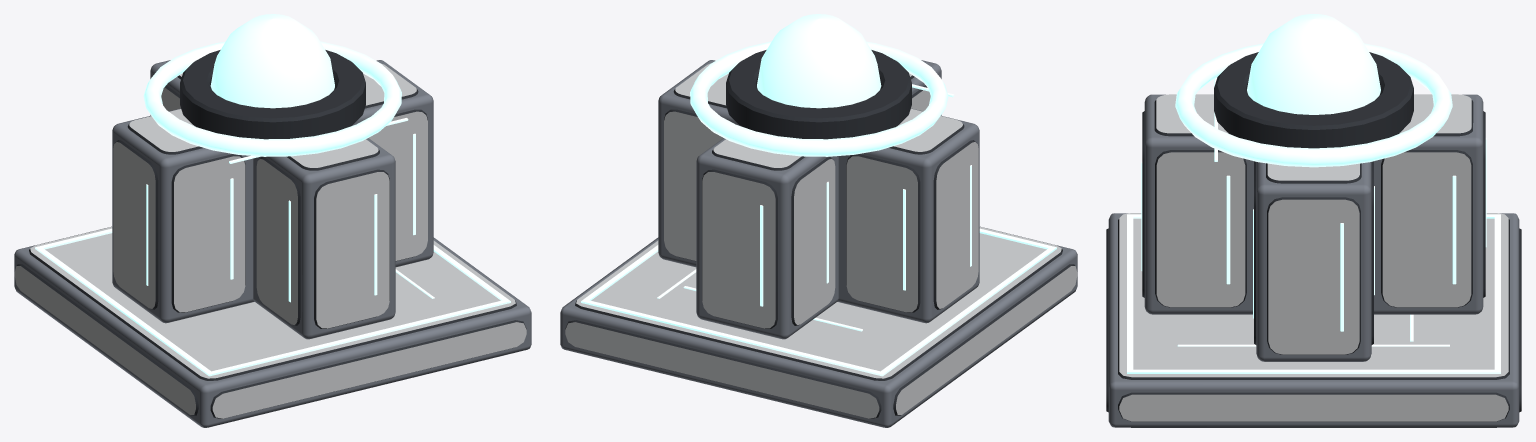
The model's file is R4X_RepairPulse.fbx.
3 views of the same model, side by side, from view 1: azimuth 30°, elevation 25°; view 2: azimuth 150°, elevation 25°; view 3: azimuth 270°, elevation 25° (orthographic). The views are drawn at different scales.
Parts seen in each view (by area): view 1: R4X_RepairPulse_Body; view 2: R4X_RepairPulse_Body; view 3: R4X_RepairPulse_Body.
Boxes of the visible parts, bbox=[...] form: R4X_RepairPulse_Body: bbox=[14, 14, 531, 427]; R4X_RepairPulse_Body: bbox=[560, 14, 1077, 427]; R4X_RepairPulse_Body: bbox=[1106, 14, 1521, 427].
Size of the model in its own units: 0.52 by 0.4513 by 0.52.
